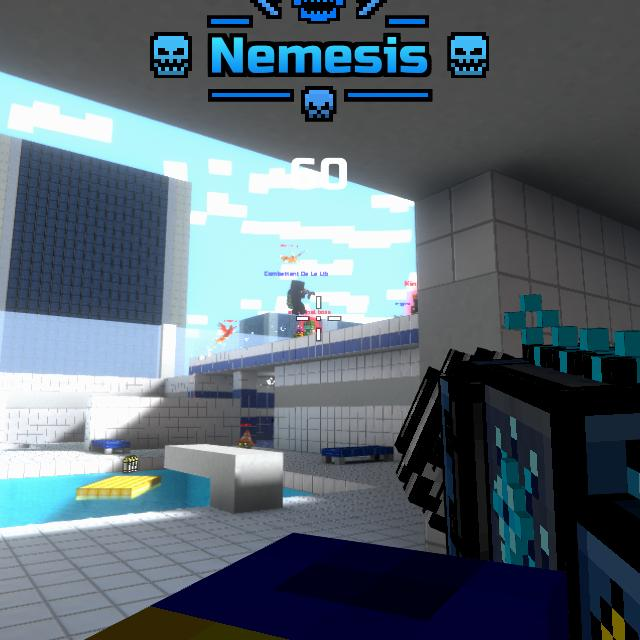Enemy: (293, 320, 315, 338), (411, 294, 418, 314)
